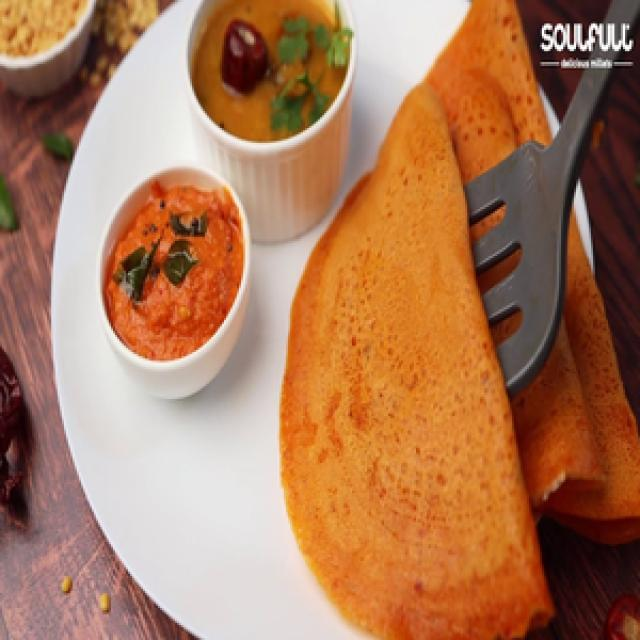dosa: (266, 76, 566, 640), (434, 60, 612, 569)
